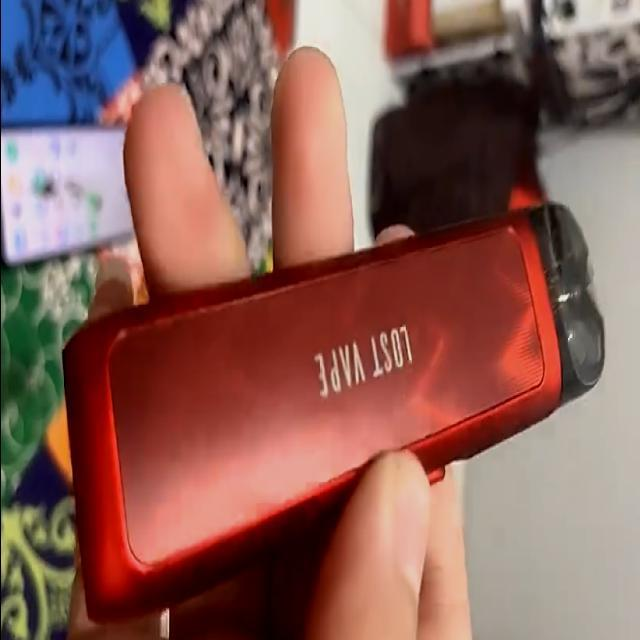Hazard: (61, 198, 604, 628)
